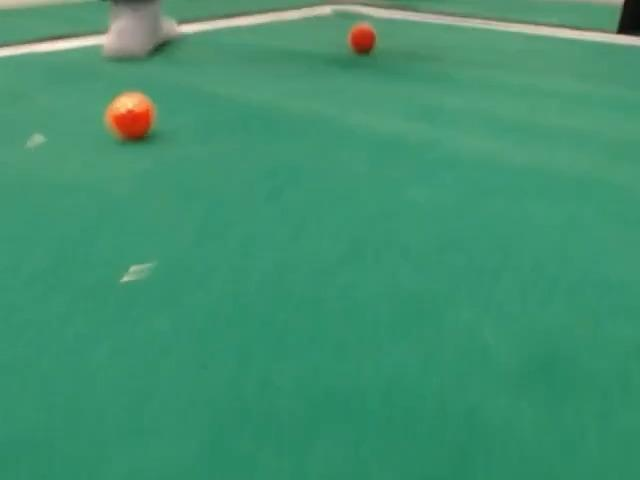Ball: (104, 91, 154, 140), (348, 22, 376, 54)
